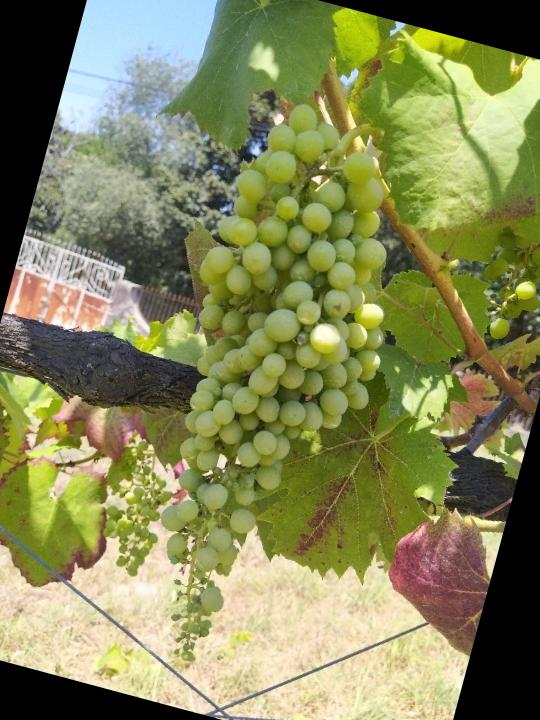grape: (98, 86, 441, 695), (88, 433, 188, 587)
